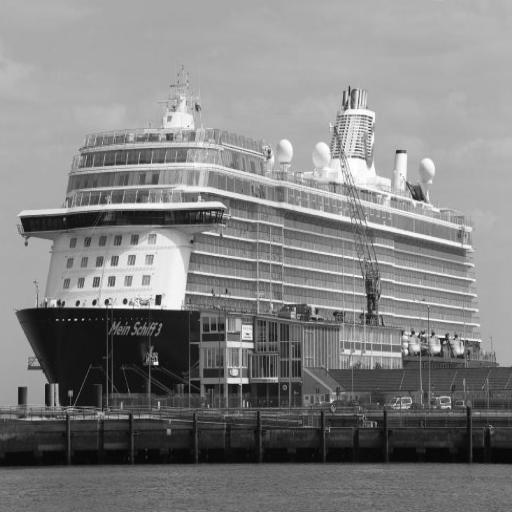cruises: (12, 62, 493, 423)
